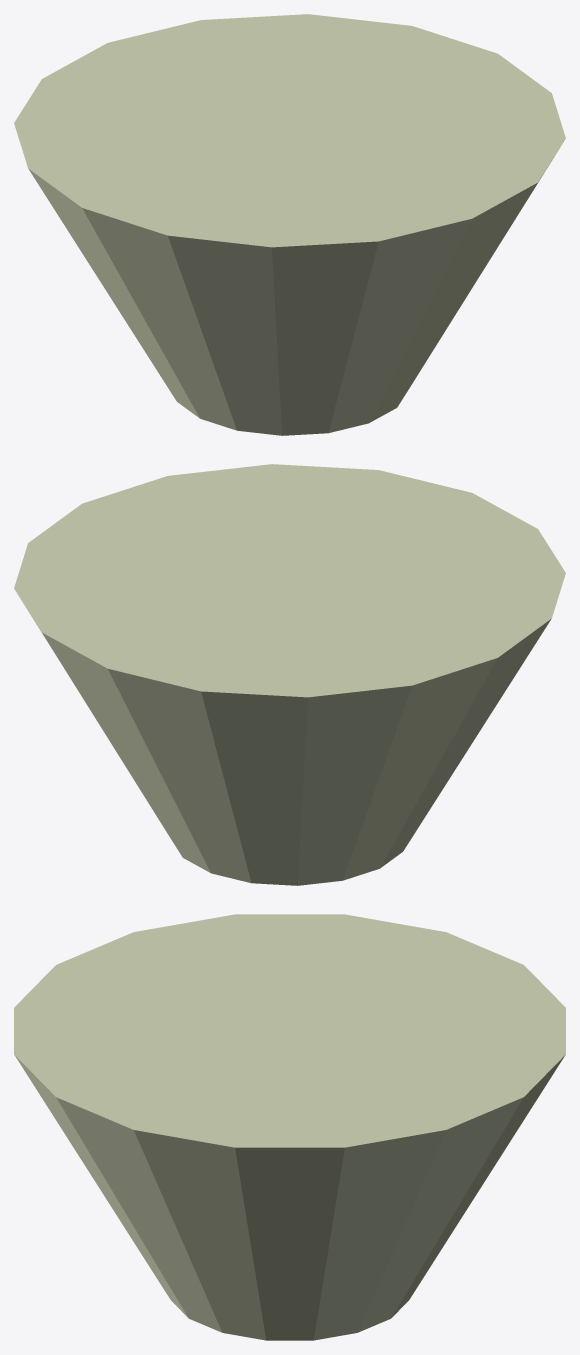
Rendered from LLV_G_Engine_1_Collider.obj.
3 views of the same model, one above another, from view 1: azimuth 30°, elevation 25°; view 2: azimuth 150°, elevation 25°; view 3: azimuth 270°, elevation 25° (orthographic).
Parts seen in each view (by area): view 1: LLV_G_Engine_1_Collider; view 2: LLV_G_Engine_1_Collider; view 3: LLV_G_Engine_1_Collider.
Boxes of the visible parts, x1=… form: LLV_G_Engine_1_Collider: x1=14, y1=14, x2=565, y2=435; LLV_G_Engine_1_Collider: x1=14, y1=464, x2=565, y2=885; LLV_G_Engine_1_Collider: x1=14, y1=914, x2=565, y2=1340.
Bounding box in the file's own units: 1.88 × 0.9712 × 1.88.
